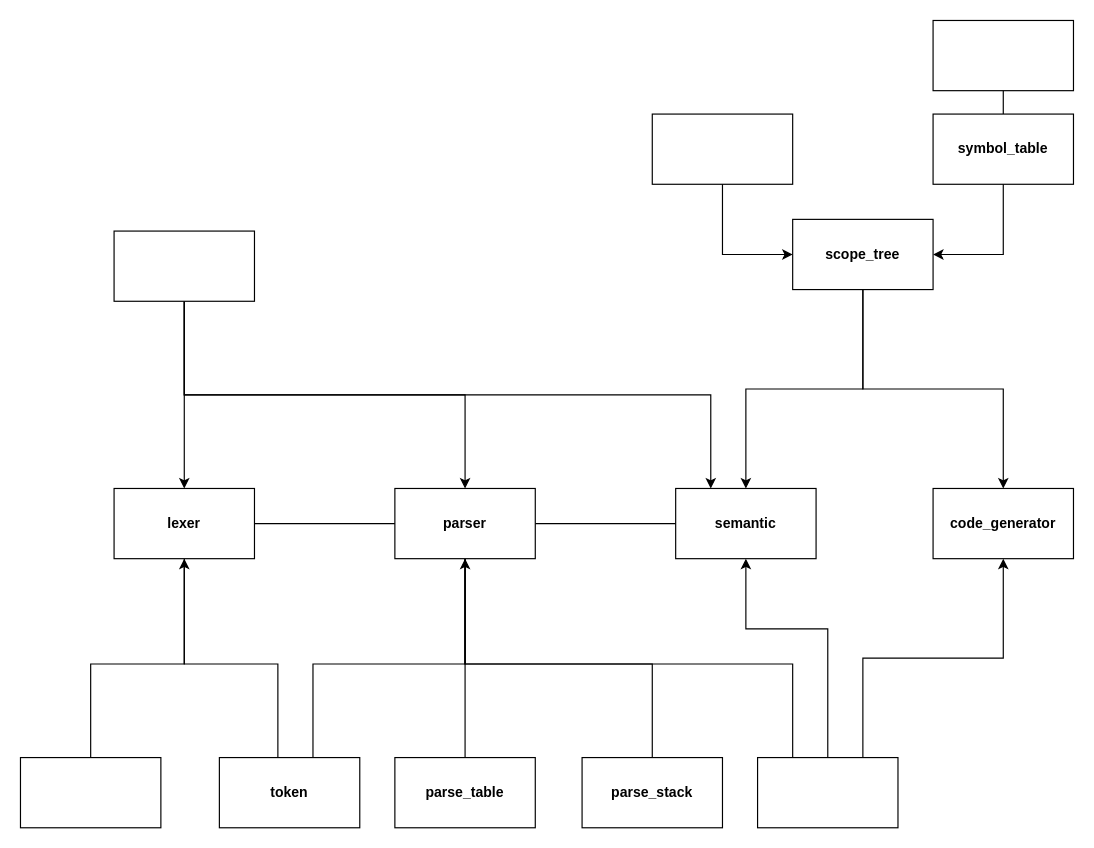
The diagram is 1094 pixels wide and 848 high, and some of its shapes have lost their labels. The shapes that lost their labels are listed below. From the top down, each one's centre as x and y in pixels, then its label:
At point 1002,55: "symbol_table_entry".
At point 722,148: "scope".
At point 183,265: "error_handler".
At point 90,792: "lexer_fsm".
At point 827,792: "parse_tree".
